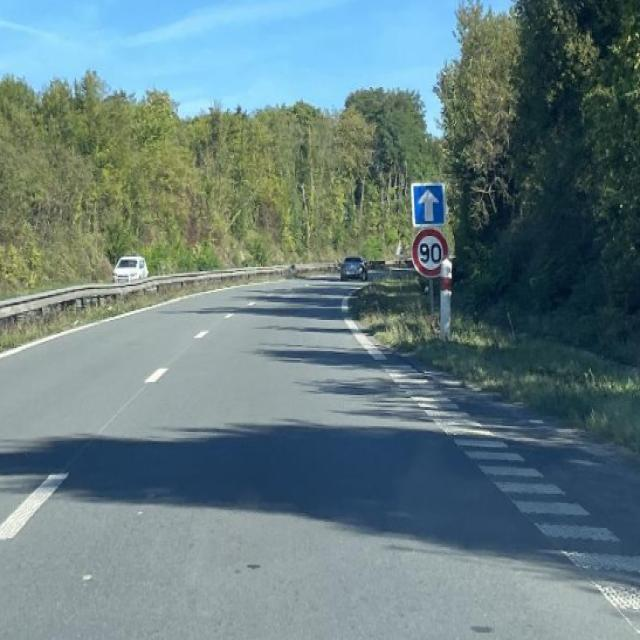speed_90: (413, 228, 448, 276)
